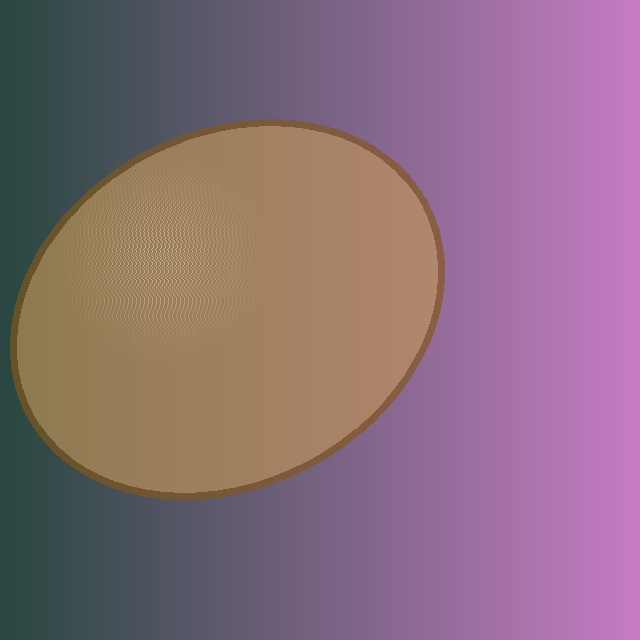lens: (15, 123, 439, 495)
